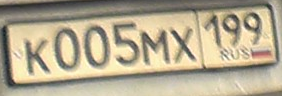character: (110, 18, 143, 68), (50, 25, 82, 73), (80, 21, 112, 69), (139, 28, 172, 65), (22, 38, 53, 77), (168, 25, 197, 65), (220, 10, 244, 47), (243, 9, 266, 46), (203, 12, 223, 50)
